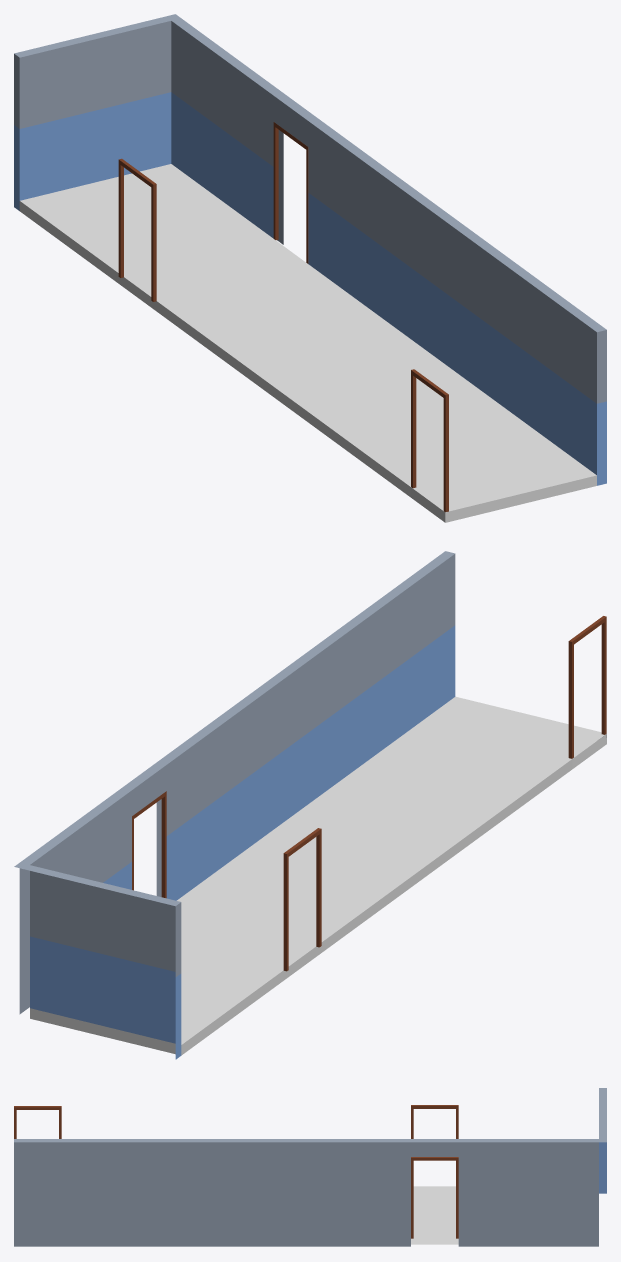
The model's file is Room_Pasillo.fbx.
3 renders of one model, top to bottom at view 1: azimuth 30°, elevation 25°; view 2: azimuth 150°, elevation 25°; view 3: azimuth 270°, elevation 25°, orthographic. The views are drawn at different scales.
Visible parts, largest first — view 1: Aula3_Base.003; view 2: Aula3_Base.003; view 3: Aula3_Base.003.
Boxes of the visible parts, x1,y1,x2,y2 form: Aula3_Base.003: (14,14,606,522); Aula3_Base.003: (14,551,606,1059); Aula3_Base.003: (14,1088,606,1246).
Bounding box in the file's own units: 1641 × 1461 × 7438.
